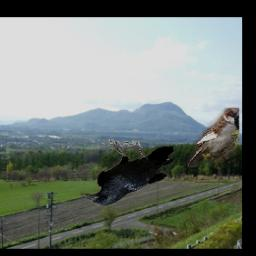Crow: (81, 140, 174, 206)
Sparrow: (188, 108, 240, 167)
